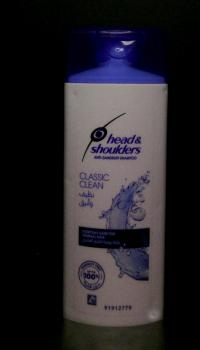dent_marginal: (64, 84, 87, 105), (149, 292, 162, 320), (158, 84, 169, 105)
